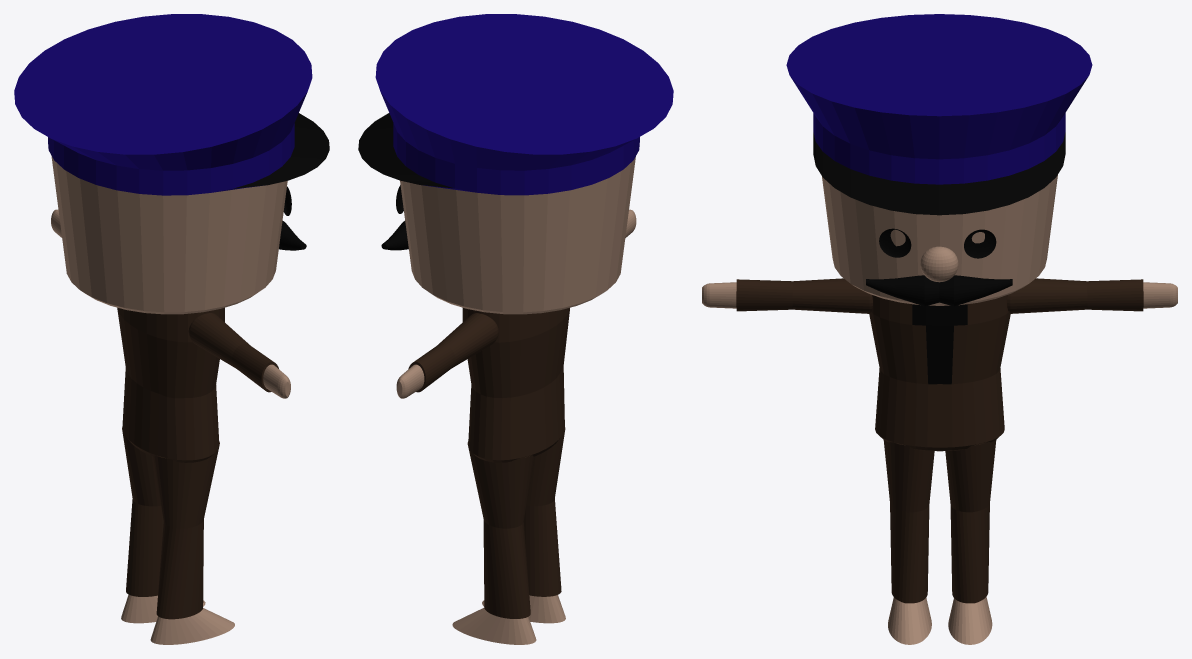
File: brown_bigstache_bluehat.fbx
3 views of the same model, side by side, from view 1: azimuth 30°, elevation 25°; view 2: azimuth 150°, elevation 25°; view 3: azimuth 270°, elevation 25° (orthographic). The views are drawn at different scales.
Parts seen in each view (by area): view 1: Hat.001, Headd.002, Cylinder.049, Cylinder.052, Cylinder.053, Cylinder.050, Cylinder.047, Cylinder.038, Cylinder.055, Cylinder.017; view 2: Hat.001, Headd.002, Cylinder.049, Cylinder.053, Cylinder.052, Cylinder.051, Cylinder.038, Cylinder.047, Cylinder.056, Cylinder.017; view 3: Hat.001, Cylinder.049, Headd.002, Cylinder.053, Cylinder.052, Cylinder.051, Cylinder.050, Cylinder.017, Cylinder.038, Cylinder.047, Eyes.007, Sphere.002 (+2 smaller).
Boxes of the visible parts, x1,y1,x2,y2 form: Hat.001: (14, 14, 329, 195); Headd.002: (51, 155, 287, 314); Cylinder.049: (117, 307, 224, 462); Cylinder.052: (152, 442, 219, 619); Cylinder.053: (122, 426, 163, 596); Cylinder.050: (188, 313, 278, 392); Cylinder.047: (150, 608, 234, 644); Cylinder.038: (121, 594, 205, 623); Cylinder.055: (263, 364, 290, 398); Cylinder.017: (279, 221, 306, 250); Hat.001: (358, 14, 673, 195); Headd.002: (400, 156, 635, 314); Cylinder.049: (462, 308, 569, 462); Cylinder.053: (467, 441, 534, 618); Cylinder.052: (523, 427, 565, 596); Cylinder.051: (408, 313, 498, 392); Cylinder.038: (452, 608, 536, 644); Cylinder.047: (482, 595, 565, 623); Cylinder.056: (396, 364, 424, 398); Cylinder.017: (381, 221, 408, 250); Hat.001: (786, 14, 1092, 215); Cylinder.049: (869, 295, 1010, 451); Headd.002: (822, 175, 1057, 305); Cylinder.053: (945, 440, 996, 603); Cylinder.052: (883, 440, 934, 603); Cylinder.051: (1007, 278, 1143, 313); Cylinder.050: (736, 278, 872, 313); Cylinder.017: (866, 275, 1012, 306); Cylinder.038: (948, 597, 992, 644); Cylinder.047: (888, 597, 931, 644); Eyes.007: (879, 228, 996, 258); Sphere.002: (920, 246, 958, 282).
Size of the model in its own units: 239 by 453 by 346.
